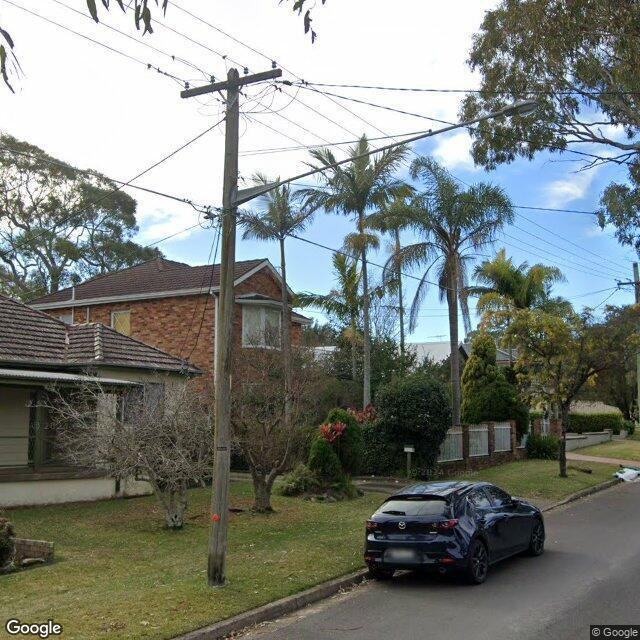crossarm: (180, 67, 282, 99), (614, 277, 640, 290)
streetlight: (232, 97, 544, 207)
timber-pole: (206, 68, 239, 584), (632, 262, 640, 304)
